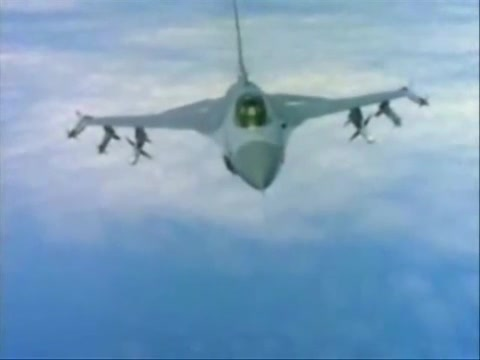aeroplane: (65, 2, 430, 197)
